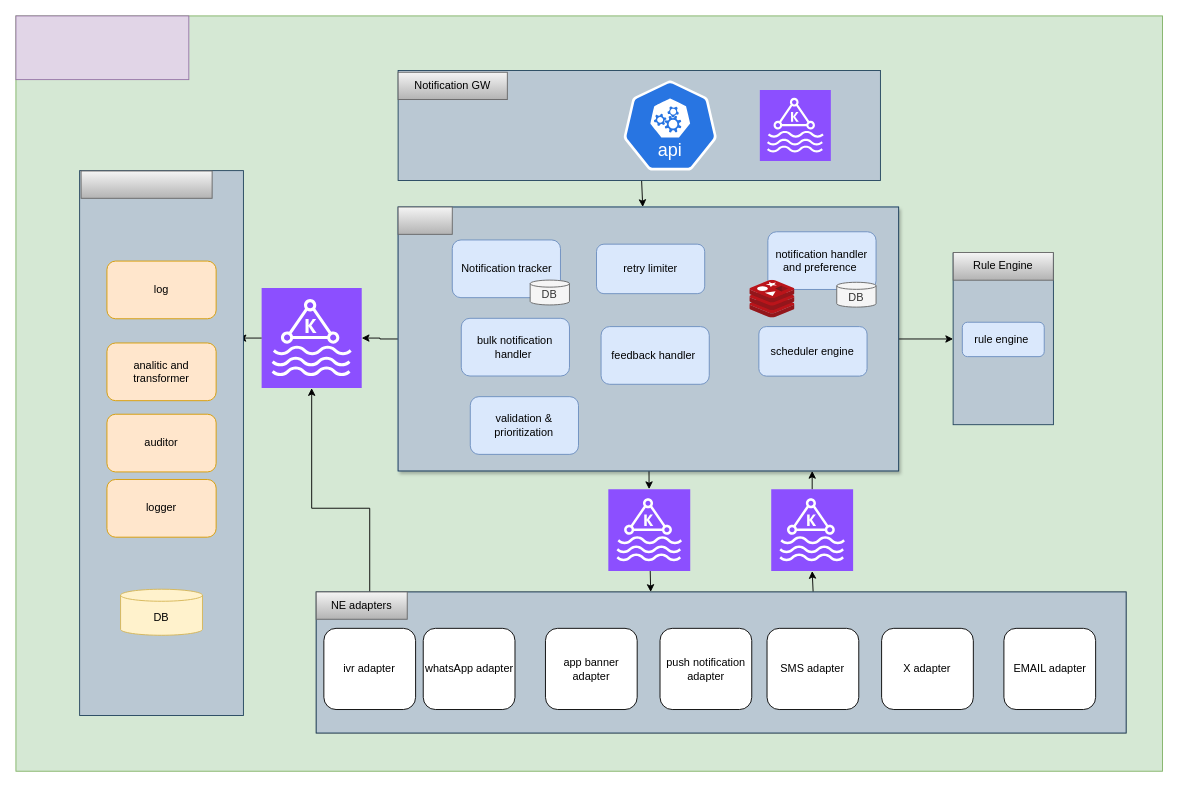
This 1178x787 diagram has some shape labels left out. Here are the shapes that lost their labels. From the top down, the centre of each, then its label:
the point at 102,47: NE logical Diagram
the point at 146,184: logger and analytic tool
the point at 424,220: NE
